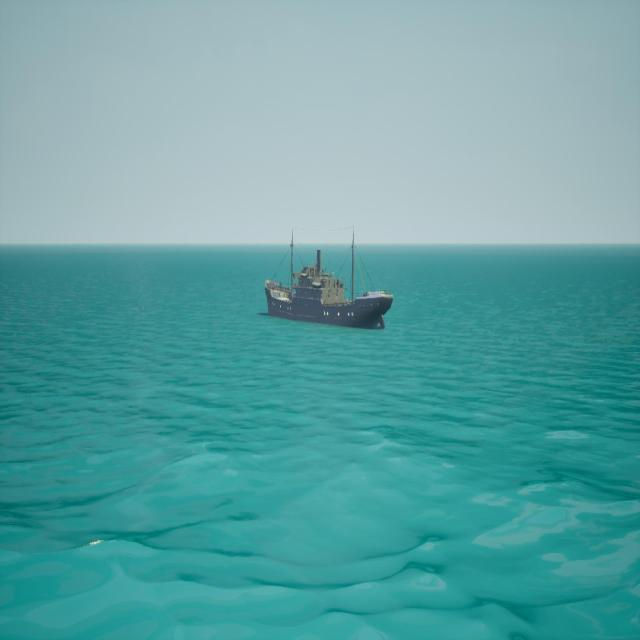fishing ship: (264, 232, 393, 332)
